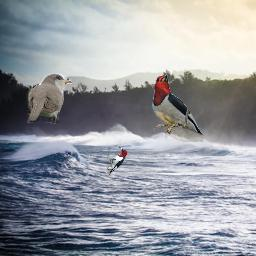Cuckoo: (26, 73, 72, 124)
Woodpecker: (150, 71, 206, 142), (105, 146, 129, 176)
